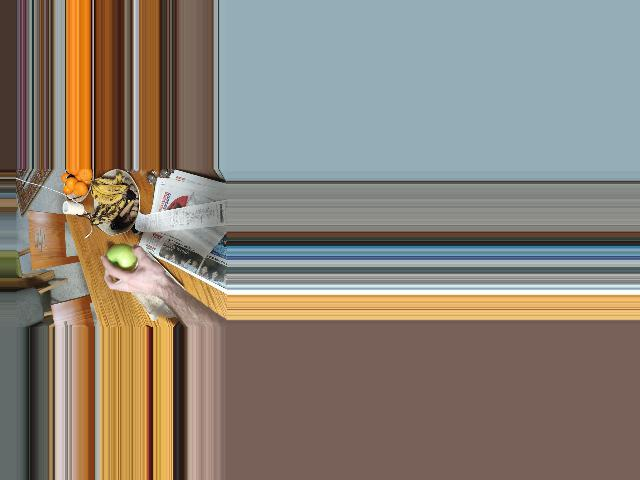apple: (101, 244, 141, 274)
